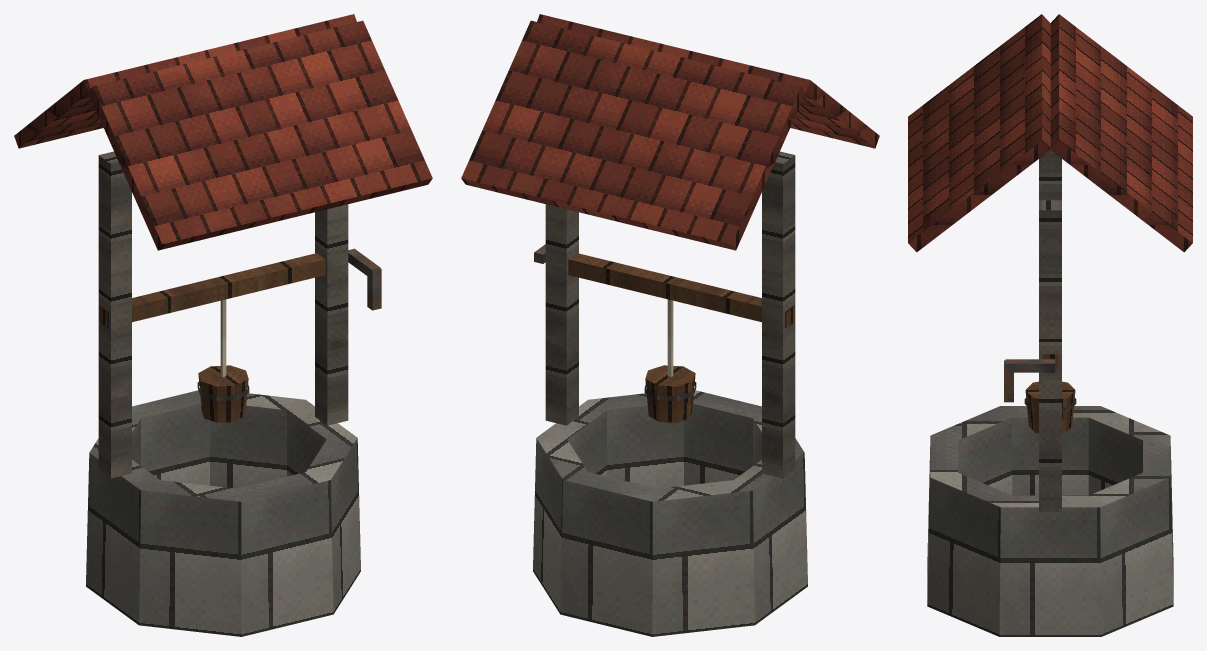
The model's file is pozo.obj.
3 renders of one model, left to right at view 1: azimuth 30°, elevation 25°; view 2: azimuth 150°, elevation 25°; view 3: azimuth 270°, elevation 25°, orthographic. The views are drawn at different scales.
Parts seen in each view (by area): view 1: pozo; view 2: pozo; view 3: pozo.
Boxes of the visible parts, x1=… form: pozo: x1=14, y1=14, x2=432, y2=636; pozo: x1=461, y1=14, x2=879, y2=636; pozo: x1=908, y1=14, x2=1192, y2=636.
Bounding box in the file's own units: 1.8 × 3.36 × 1.71.
7 materials, 7 textured.
